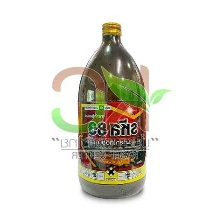insecticide: (74, 22, 153, 200)
